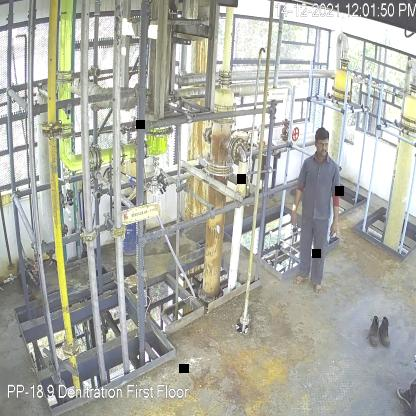no_shoes: (292, 274, 309, 284), (312, 282, 322, 296)
shoes: (368, 314, 382, 348), (379, 317, 392, 346)
